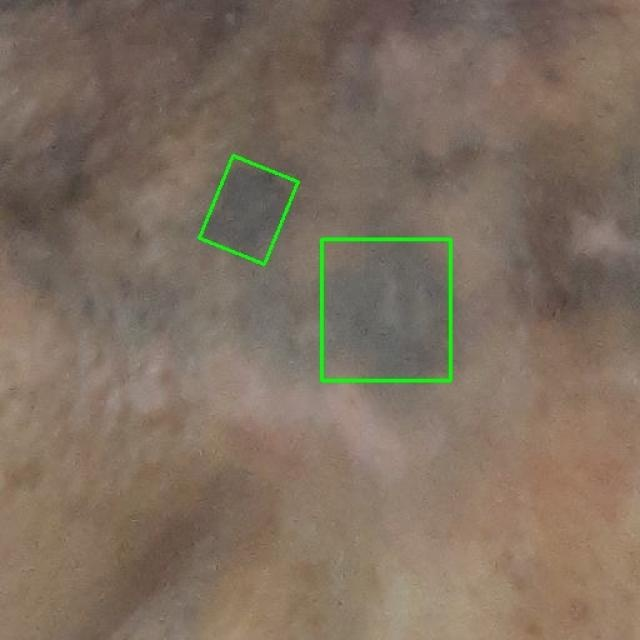Tinea Corporis: (321, 239, 450, 380), (200, 156, 298, 264)
